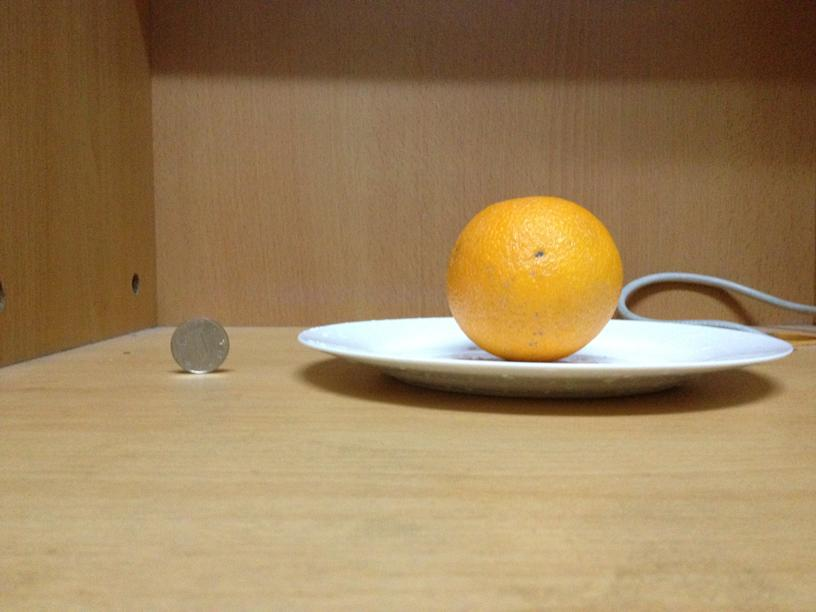coin: (170, 314, 231, 373)
orange: (448, 196, 622, 362)
